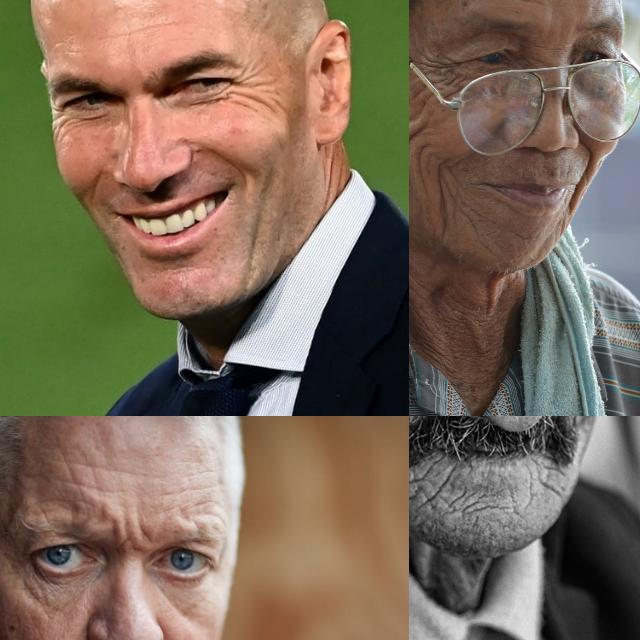chin: (414, 462, 458, 514), (465, 494, 513, 518), (537, 468, 565, 504), (464, 208, 486, 246), (160, 266, 200, 278)
crows_feet: (234, 68, 274, 108), (422, 56, 454, 98), (51, 104, 71, 138)
forehead: (99, 22, 180, 46), (60, 460, 88, 496), (488, 0, 538, 9), (190, 492, 218, 508)
frown_line: (112, 524, 146, 552)
gummy_smile: (189, 138, 249, 170), (577, 137, 597, 187), (86, 163, 104, 203)
masseter: (249, 187, 269, 275), (409, 117, 426, 173)
sad_smile: (431, 170, 457, 238)
